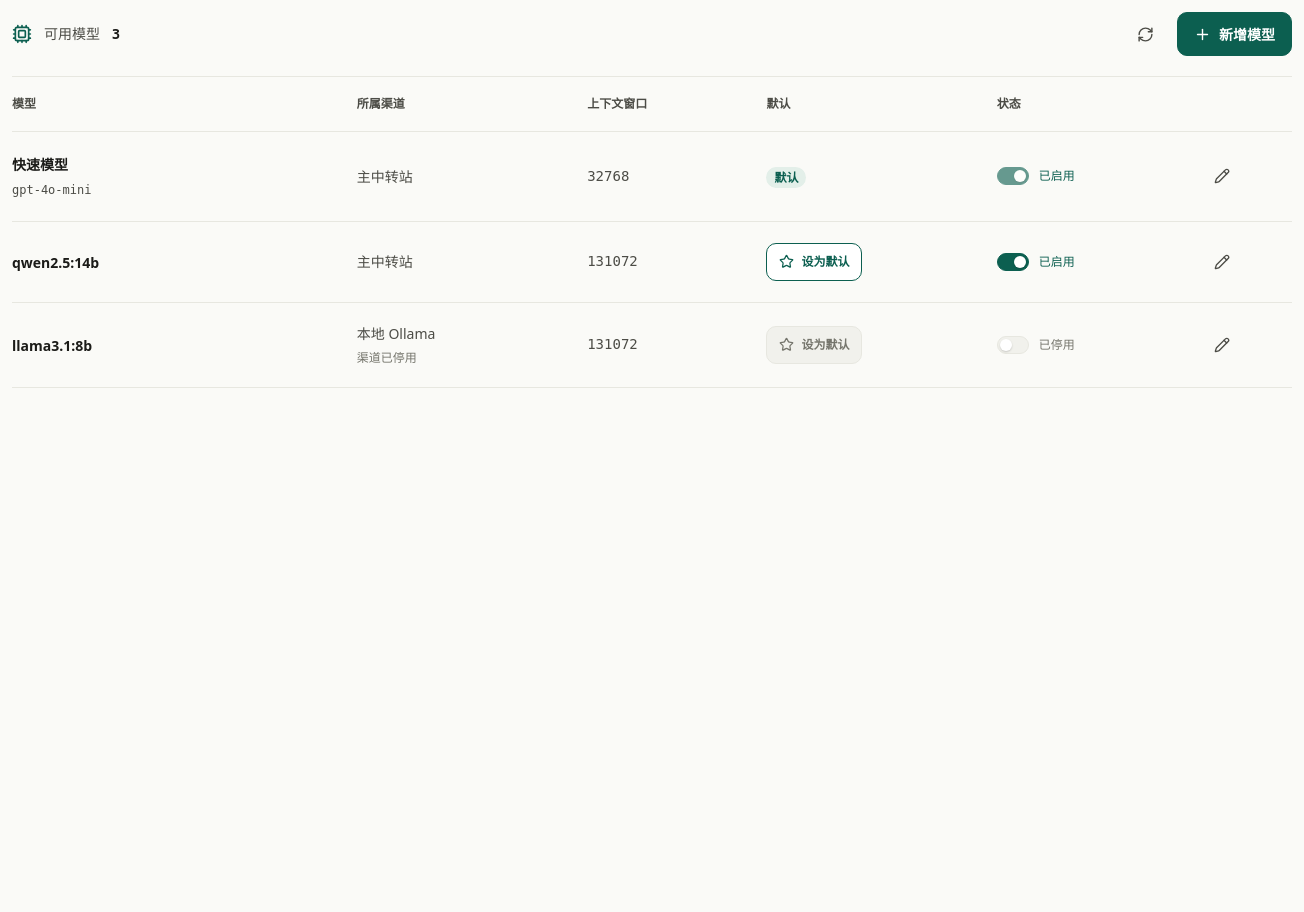
Test: LlmModelDirectory › 窗口那一栏的提示说清要填确认过的最小值，并交代填小了的后果
Click the button "新增模型" at point(1234, 34), box [1177,12,1292,56]
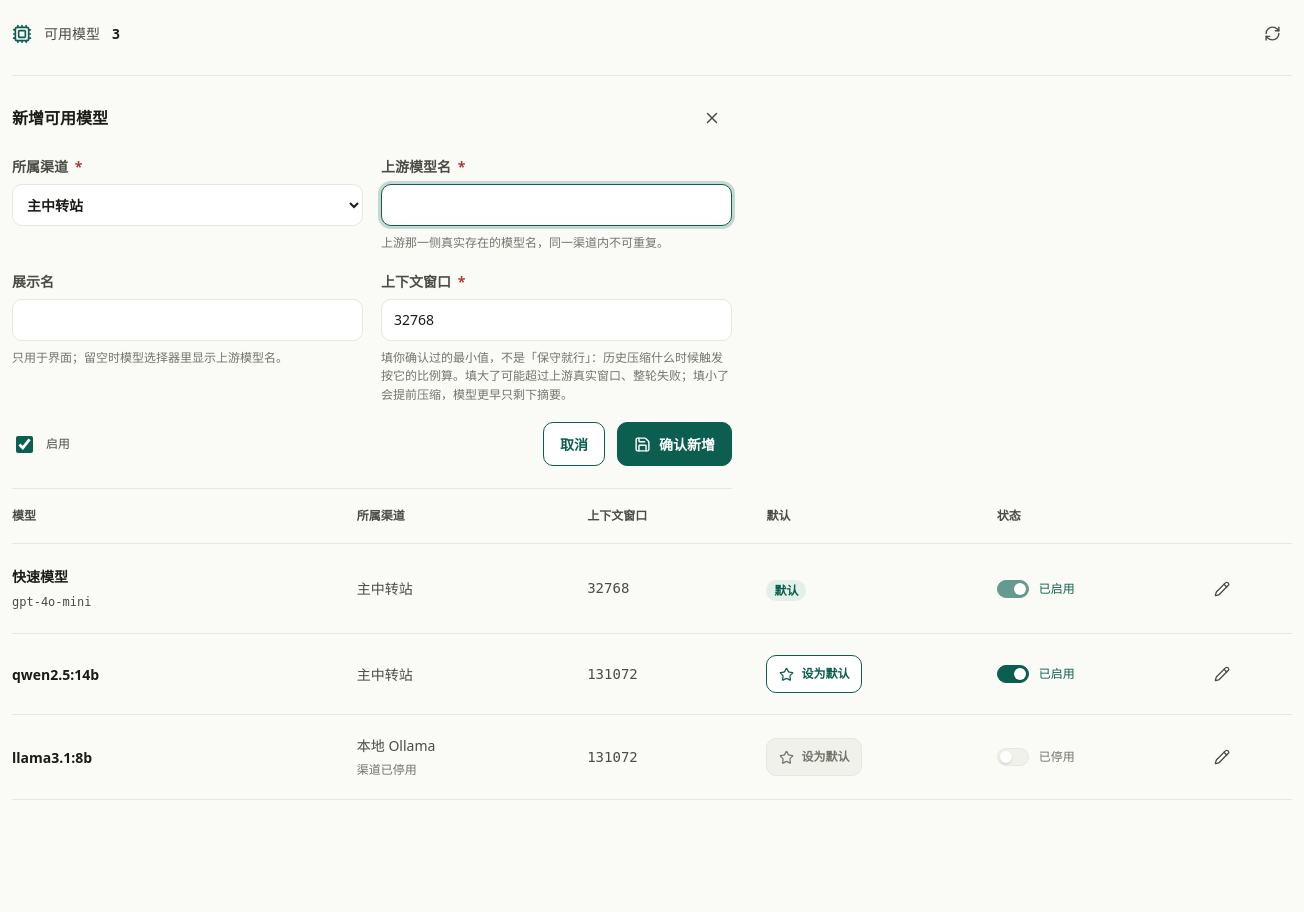
Expected: the element that starts with "上下文窗口" is shown, [381,271,732,404]
Expected: the element that starts with "上下文窗口" shows "填你确认过的最小值", [381,349,729,403]
Expected: the element that starts with "上下文窗口" shows "历史压缩什么时候触发按它的比例算", [381,349,729,403]
